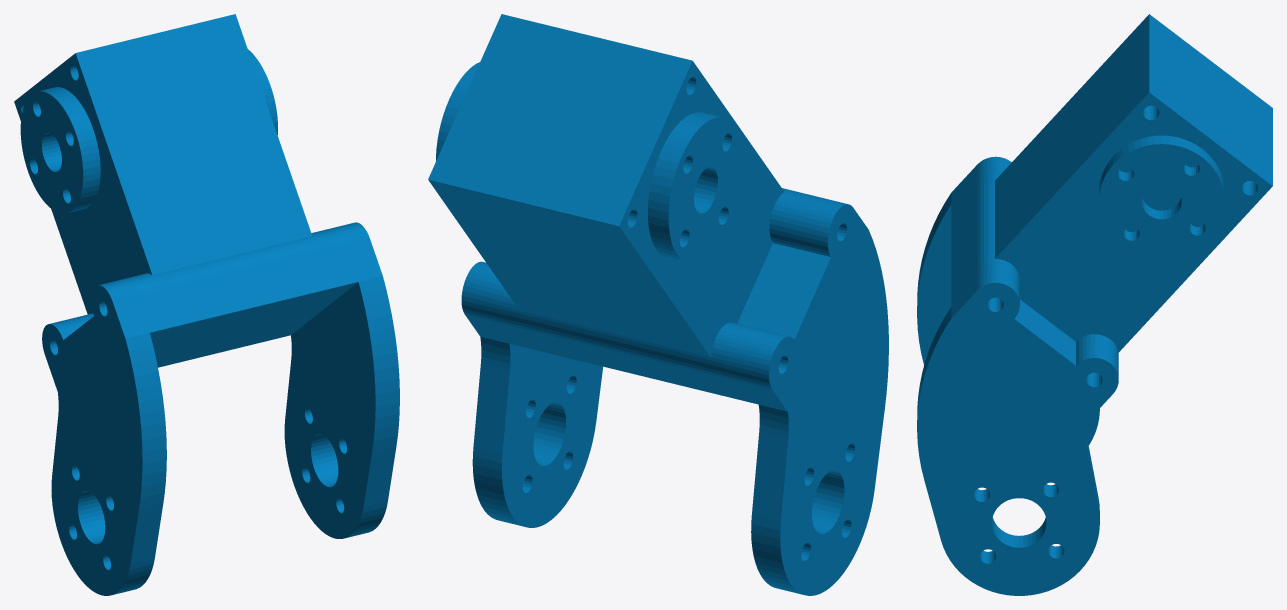
File: hexy_test_5_Femur_1_vis_1.dae
3 views of the same model, side by side, from view 1: azimuth 30°, elevation 25°; view 2: azimuth 150°, elevation 25°; view 3: azimuth 270°, elevation 25° (orthographic). The views are drawn at different scales.
Visible parts, largest first — view 1: node; view 2: node; view 3: node.
Part boxes in pixels (x1,y1,x2,y2): node: [14, 14, 399, 595]; node: [428, 14, 888, 595]; node: [917, 14, 1272, 595].
Bounding box in the file's own units: 0.185 × 0.3283 × 0.2206.
